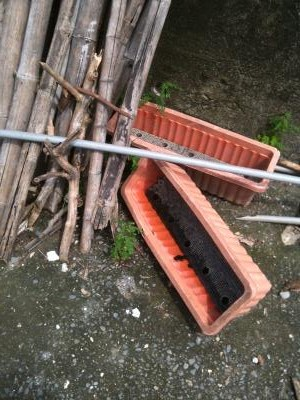box: (120, 156, 270, 336), (105, 97, 280, 211)
